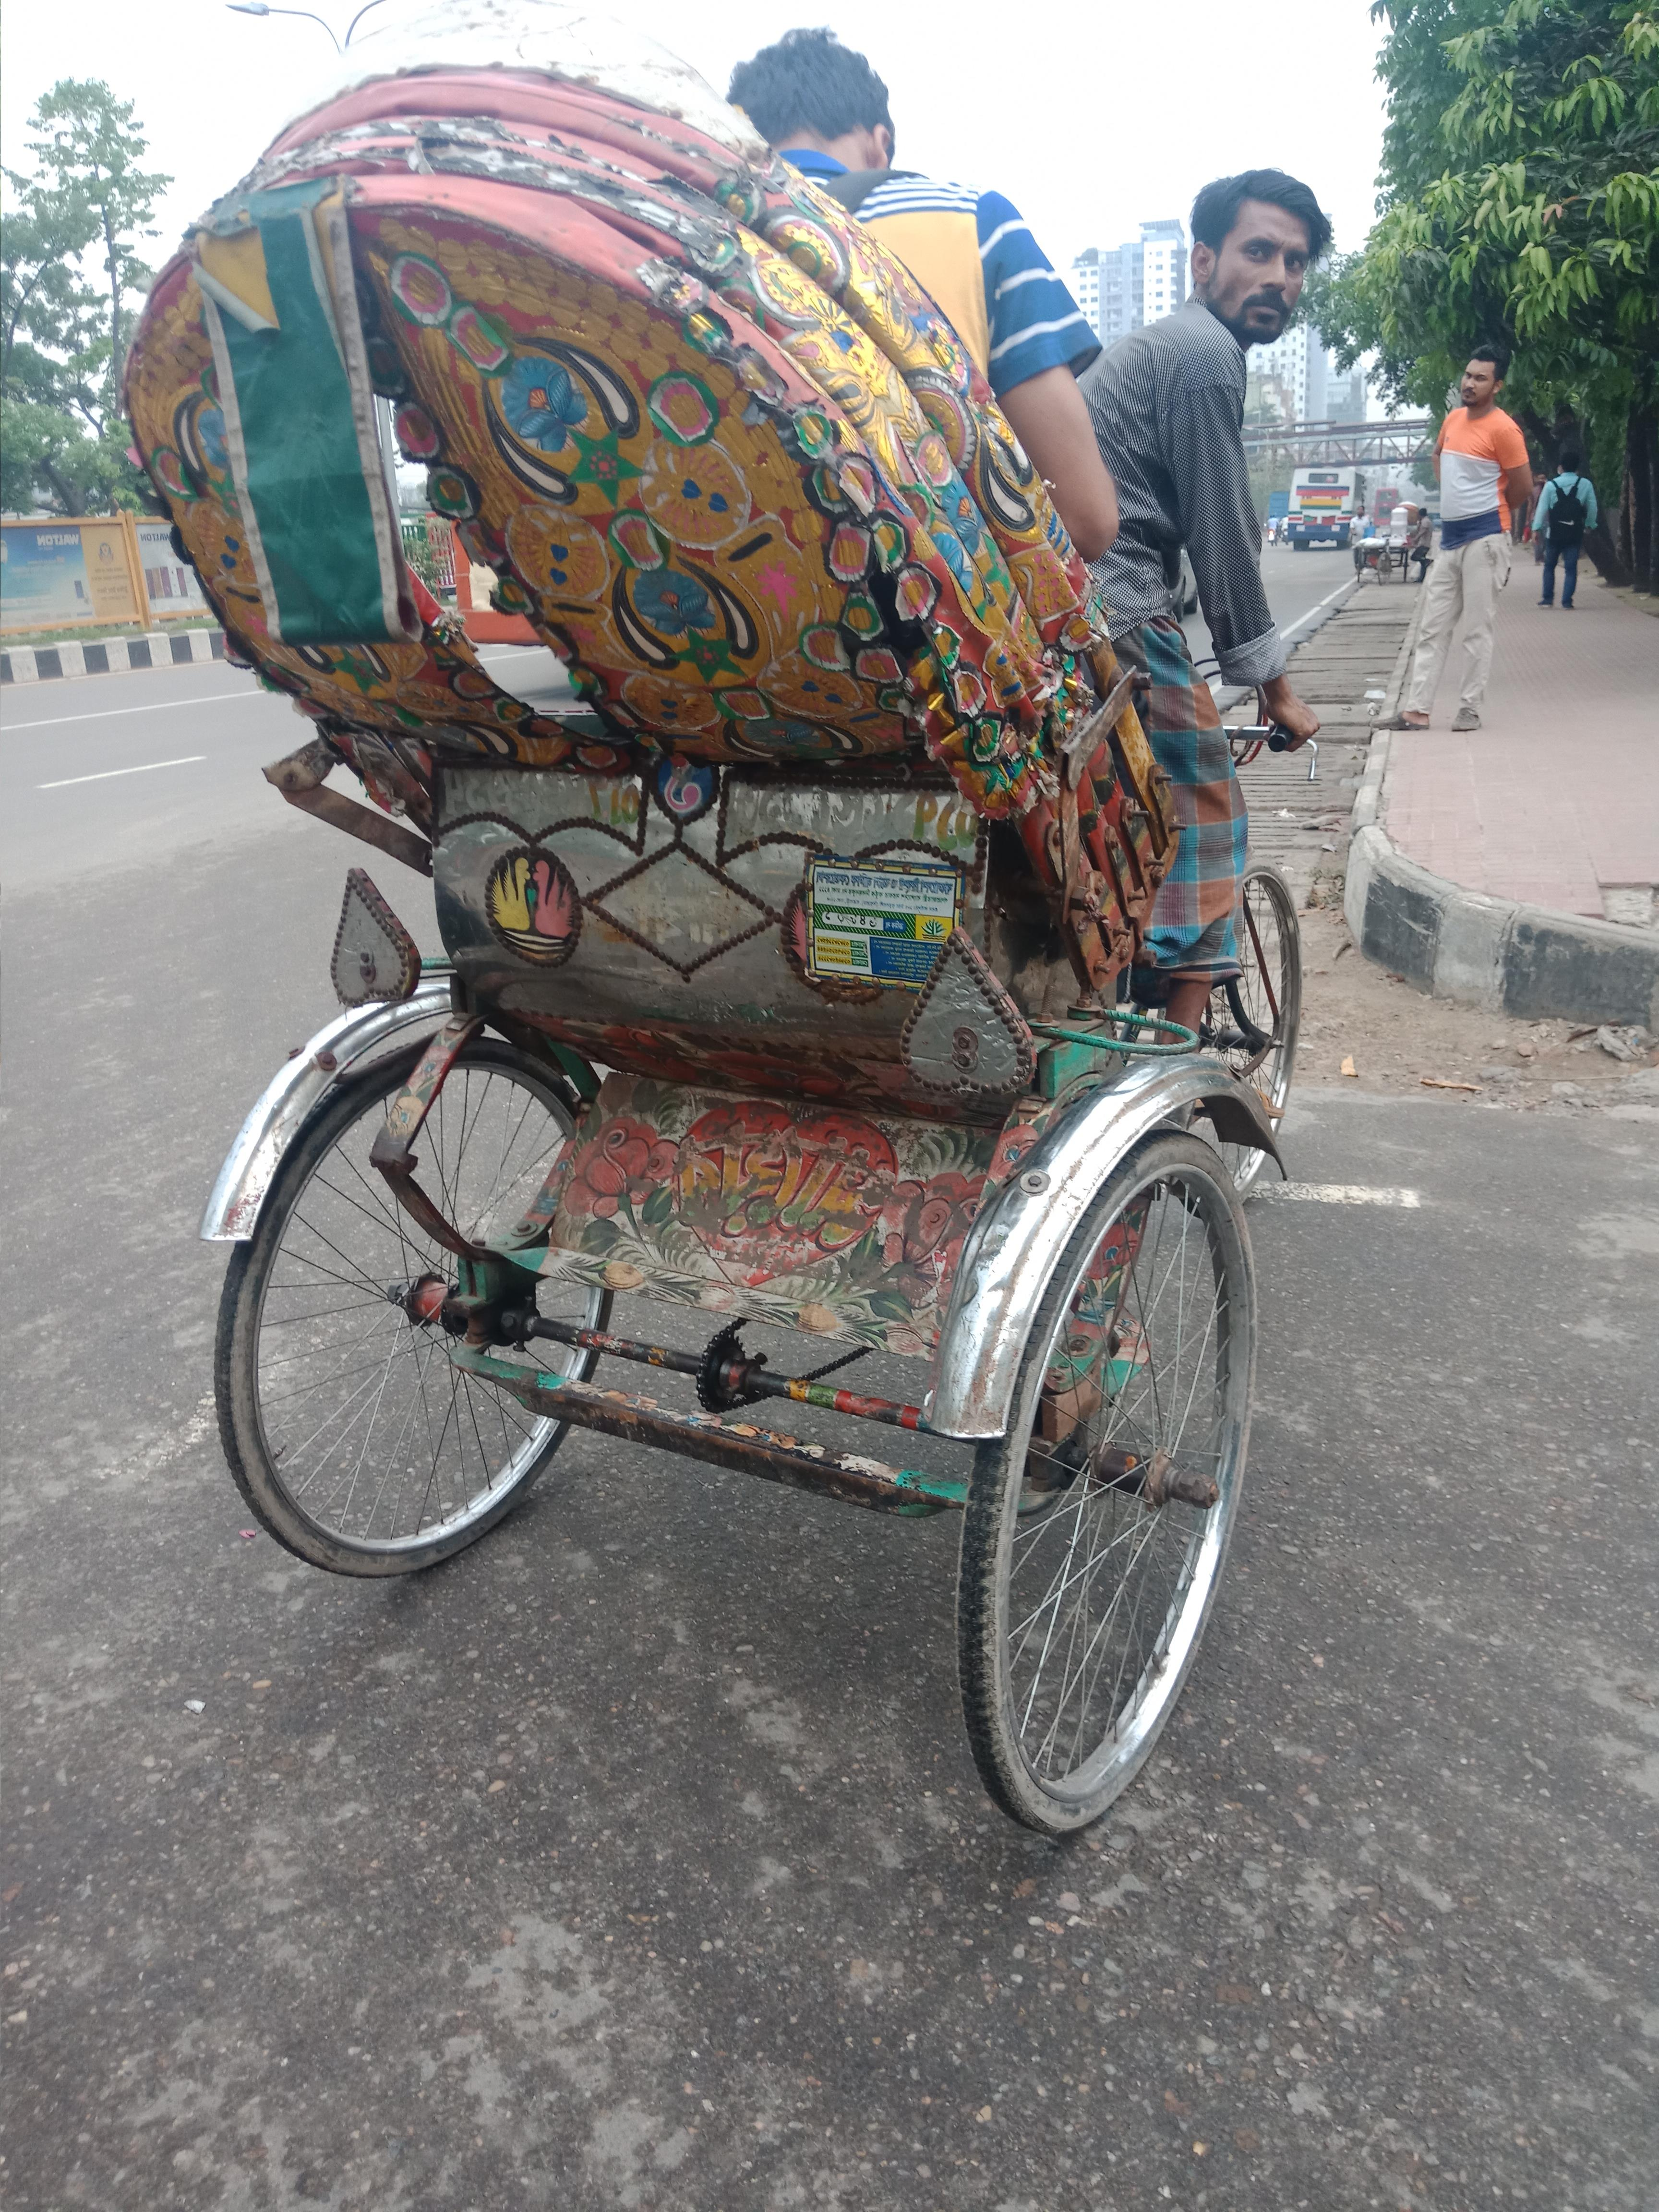Rickshaw: (101, 19, 1391, 1806)
